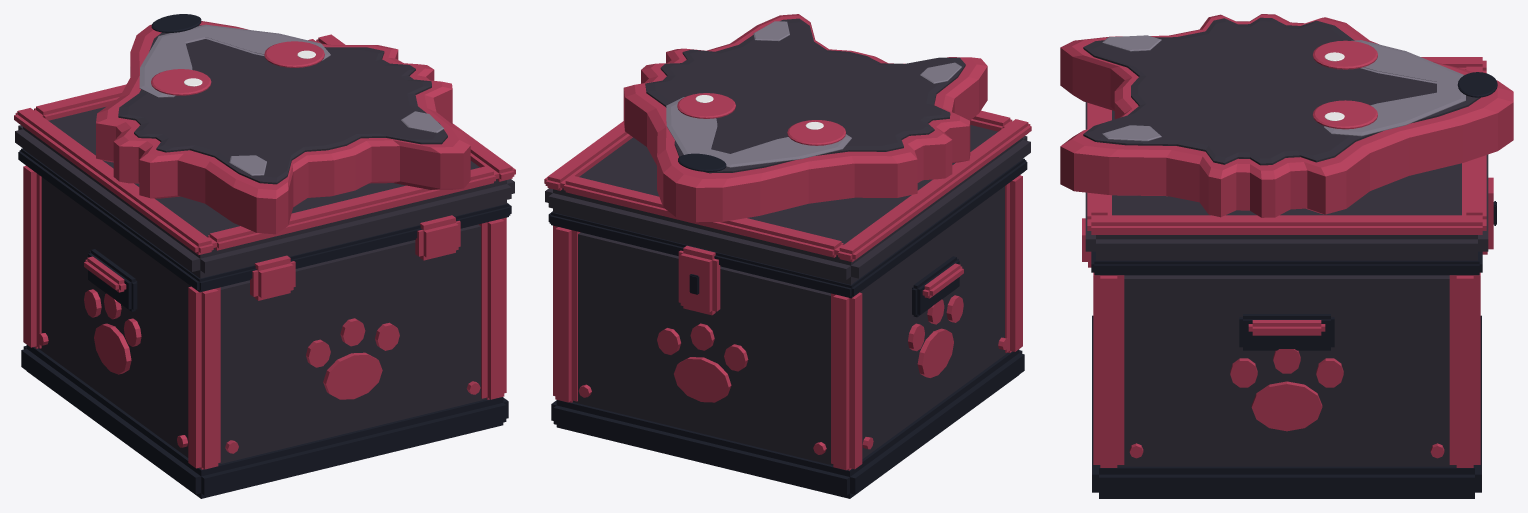
File: crate_lobo.fbx
3 views of the same model, side by side, from view 1: azimuth 30°, elevation 25°; view 2: azimuth 150°, elevation 25°; view 3: azimuth 270°, elevation 25° (orthographic). The views are drawn at different scales.
Parts seen in each view (by area): view 1: crate_lobo_caixa; view 2: crate_lobo_caixa; view 3: crate_lobo_caixa.
Part boxes in pixels (bbox=[...]): crate_lobo_caixa: bbox=[14, 14, 515, 498]; crate_lobo_caixa: bbox=[544, 14, 1031, 498]; crate_lobo_caixa: bbox=[1060, 14, 1513, 498].
Size of the model in its own units: 2.68 by 2.42 by 2.95.
Materials: 1 (1 with a texture image).
